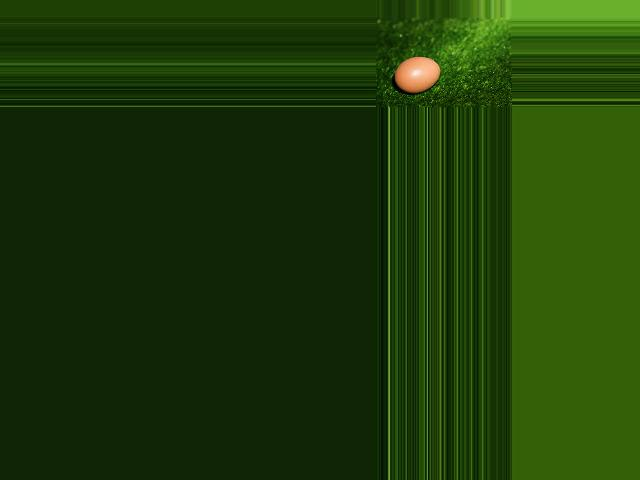egg: (394, 57, 441, 94)
